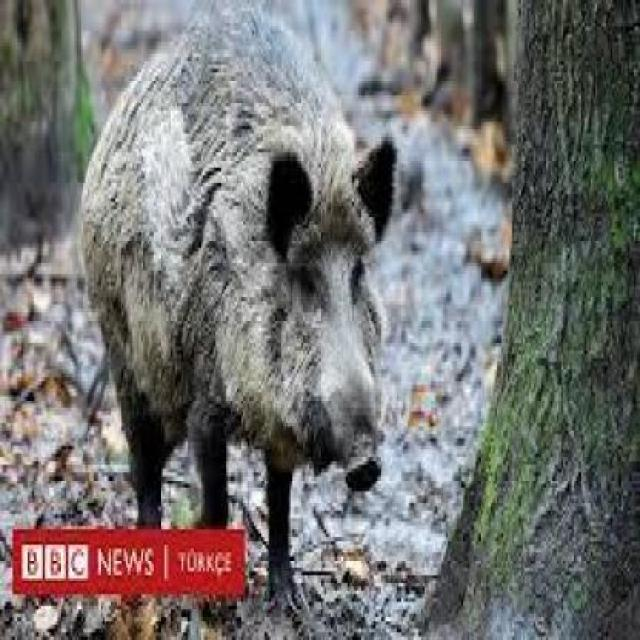wildboar: (77, 0, 397, 598)
